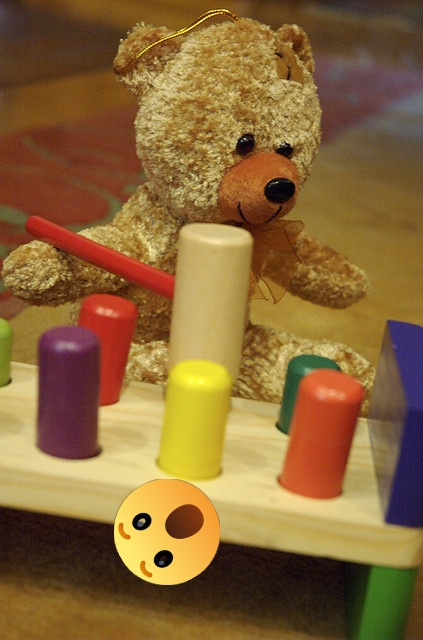wow: (114, 479, 220, 585)
